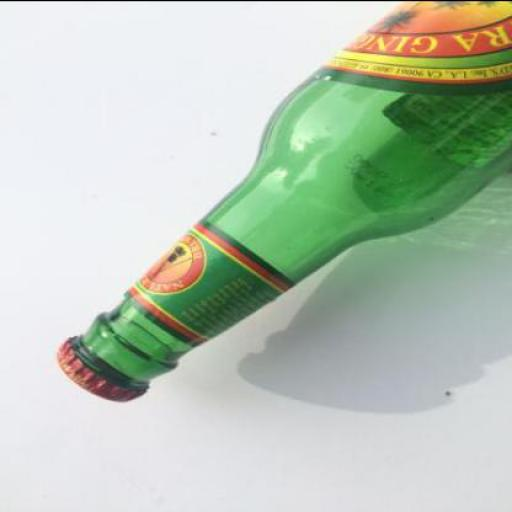glass: (80, 1, 511, 384)
metal: (58, 336, 150, 401)
